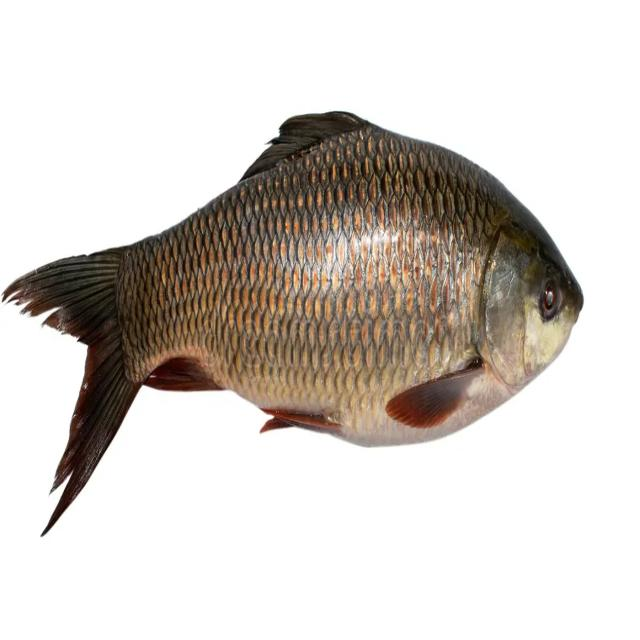Rohu: (4, 110, 585, 540)
